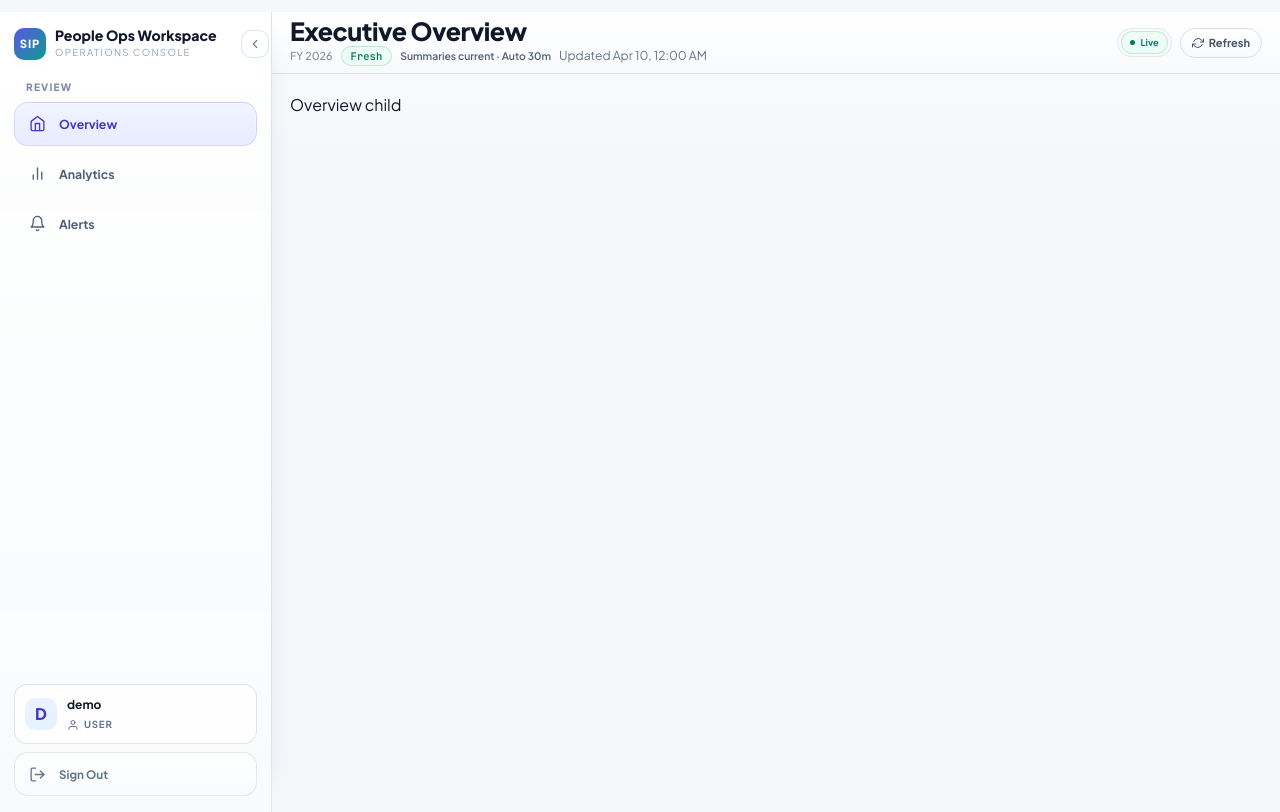
it: DashboardLayout › resets the dashboard content scroll position when changing routes
Expected: the element with class "dashboard-main-content" is shown, x1=290 y1=94 x2=401 y2=115
Click the link "Analytics".
click(72, 174)  # box x1=28 y1=166 x2=114 y2=182
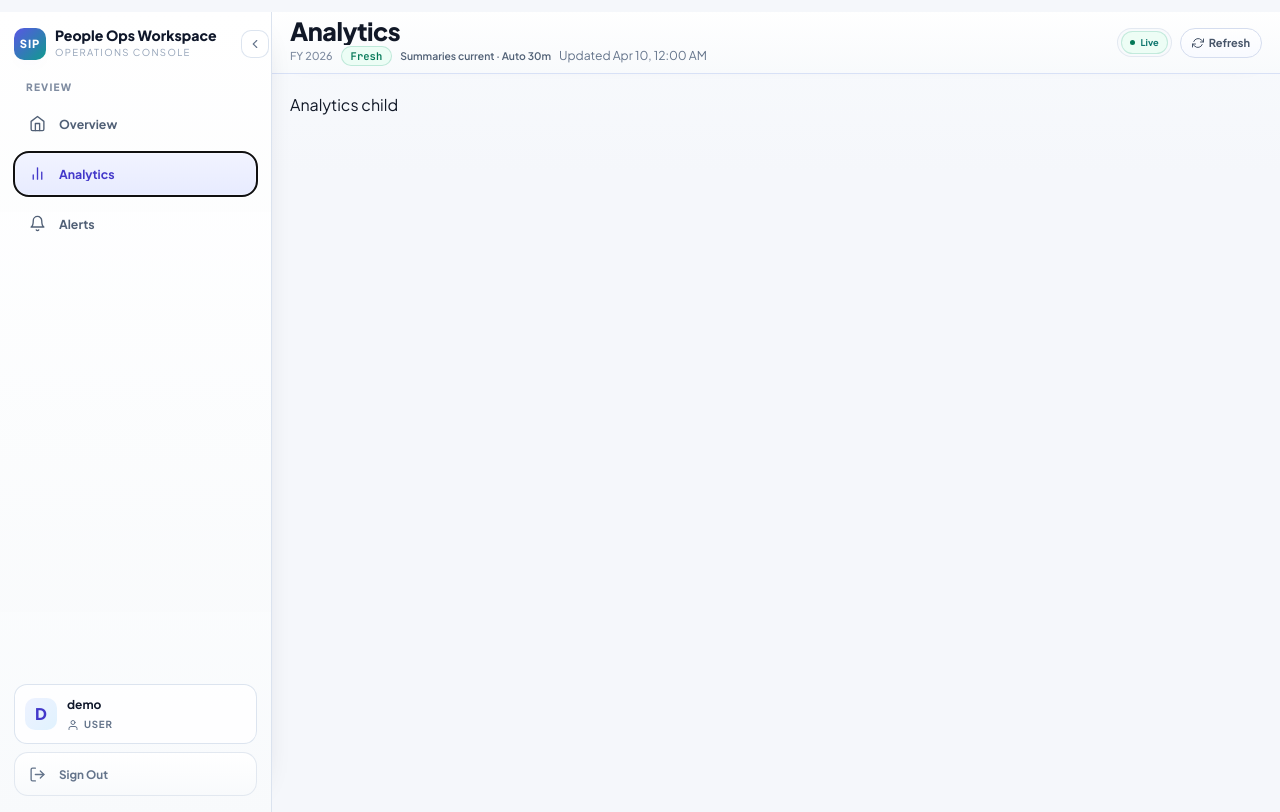
Now the text "Analytics child" is shown, box x1=290 y1=94 x2=398 y2=115
